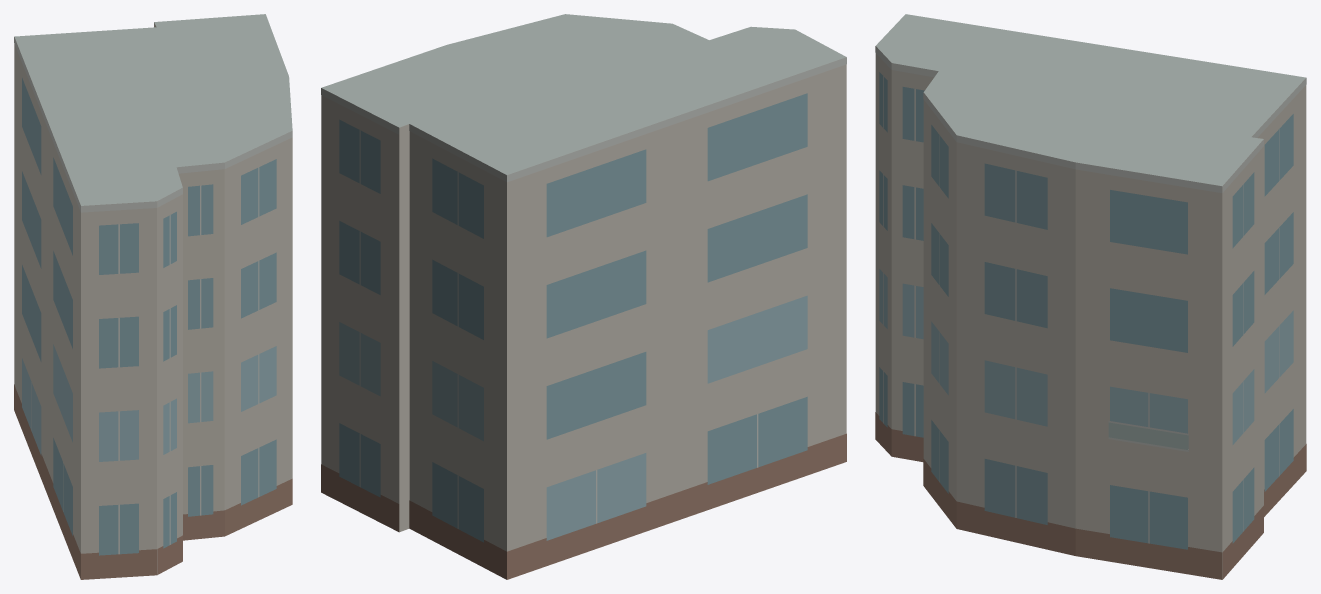
File: survey-upis-32614280.glb
3 views of the same model, side by side, from view 1: azimuth 30°, elevation 25°; view 2: azimuth 150°, elevation 25°; view 3: azimuth 270°, elevation 25° (orthographic). The views are drawn at different scales.
Parts seen in each view (by area): view 1: survey-upis-32614280.tmp; view 2: survey-upis-32614280.tmp; view 3: survey-upis-32614280.tmp.
Part boxes in pixels (bbox=[...]): survey-upis-32614280.tmp: bbox=[14, 14, 292, 579]; survey-upis-32614280.tmp: bbox=[321, 14, 846, 579]; survey-upis-32614280.tmp: bbox=[875, 14, 1306, 579].
Size of the model in its own units: 12.93 by 13.77 by 13.67.
